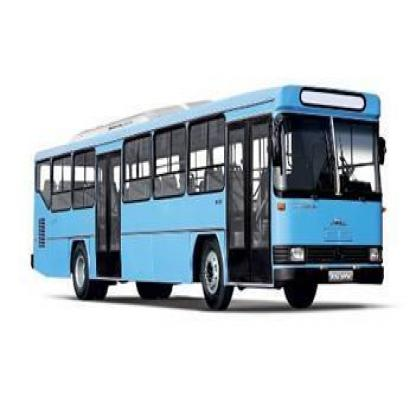Bus: (21, 73, 390, 312)
